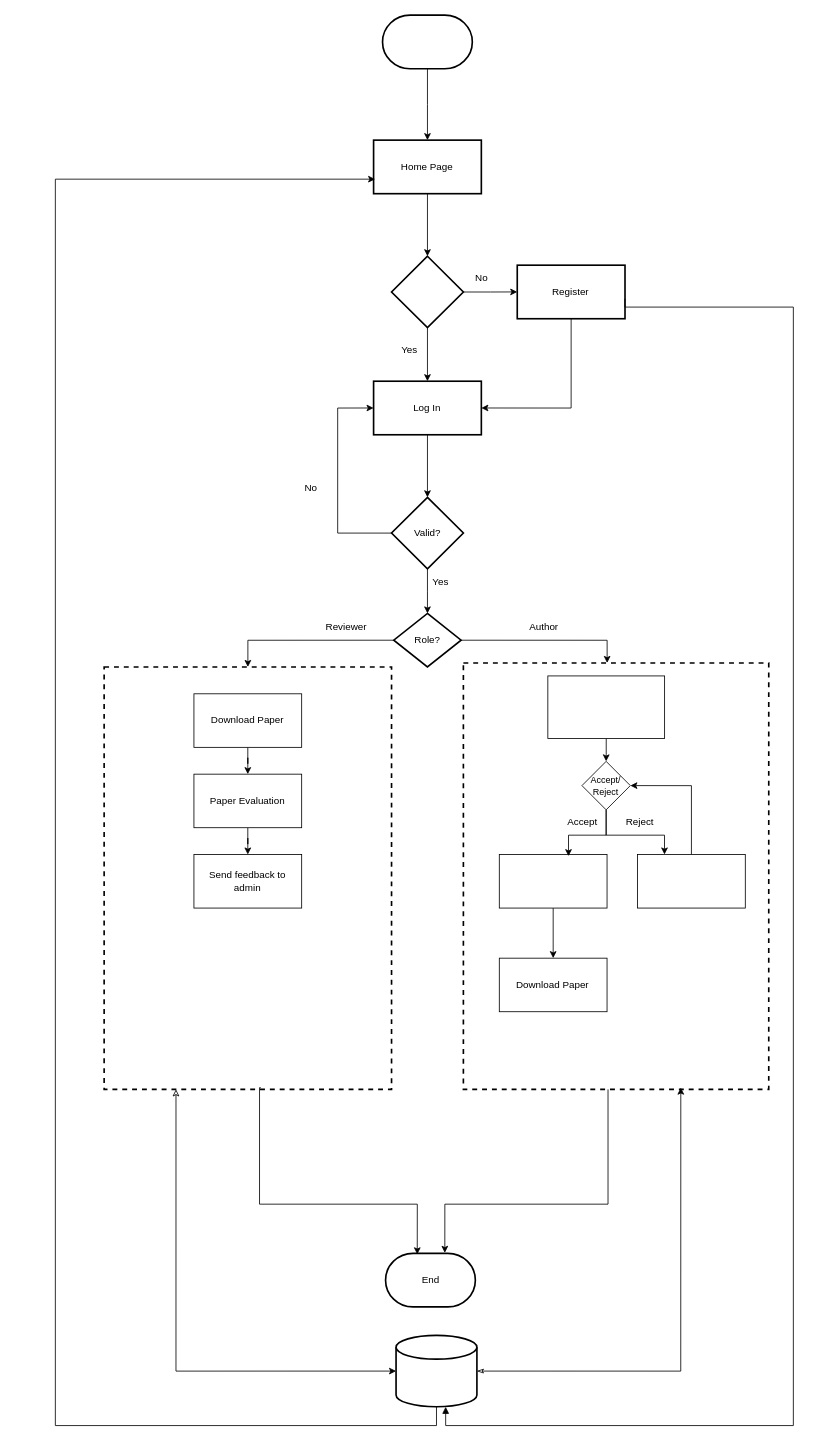
This 814x1446 diagram has some shape labels left out. The centre of each missing label's shape, as x and y in pixels:
"Database" goes at (436,1370).
"Paper Submit" goes at (606,706).
"Payment" goes at (552,881).
"Register?" goes at (427,291).
"Start" goes at (427,41).
"Update Paper Submit" goes at (691,881).
